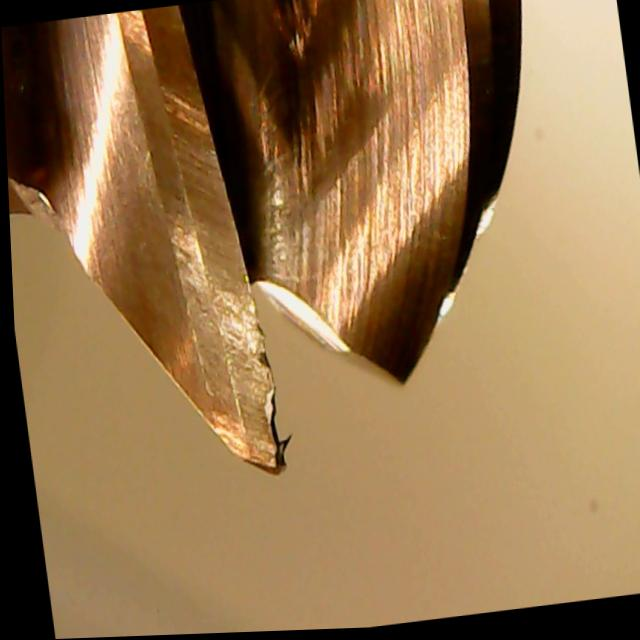Tool-wear-class-1: (155, 202, 299, 493)
